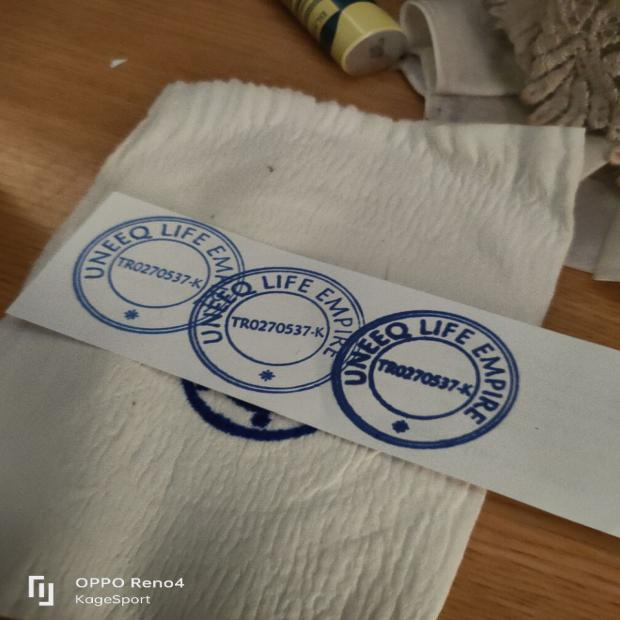Ink-stamps: (324, 307, 531, 452), (189, 261, 374, 394), (74, 214, 246, 332)
